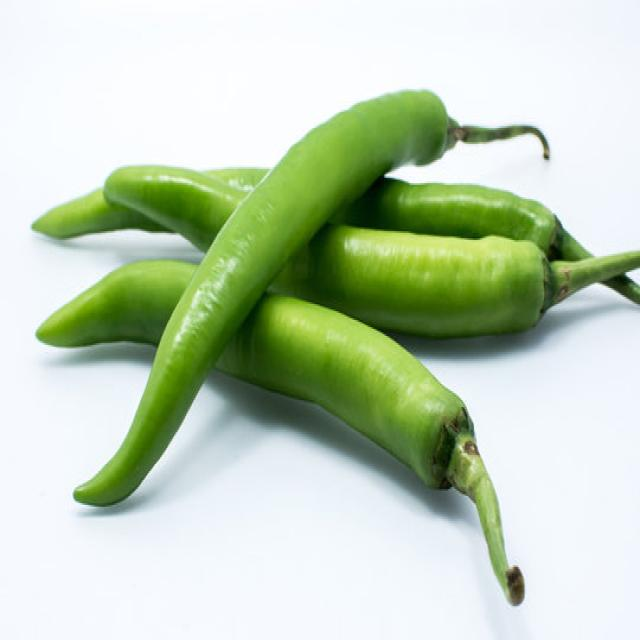Chilli: (68, 78, 559, 522), (105, 119, 629, 216), (309, 222, 639, 338), (30, 185, 179, 240)
